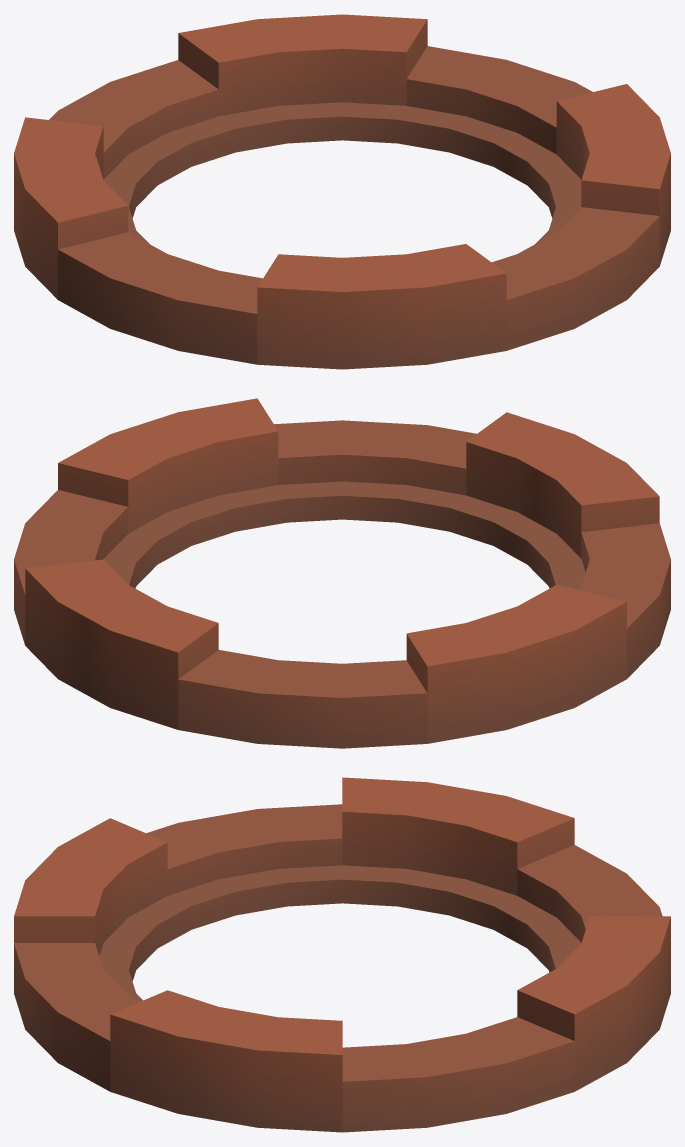
Rendered from tower-top.glb.
The picture shows the model from 3 angles, top to bottom: view 1: azimuth 30°, elevation 25°; view 2: azimuth 150°, elevation 25°; view 3: azimuth 270°, elevation 25°; orthographic projection.
Parts seen in each view (by area): view 1: tower-top; view 2: tower-top; view 3: tower-top.
Boxes of the visible parts, left/top/right/bottom form: tower-top: left=14, top=14, right=670, bottom=369; tower-top: left=14, top=398, right=670, bottom=748; tower-top: left=14, top=777, right=670, bottom=1132.
Size of the model in its own units: 3 by 0.39 by 3.
Materials: 1 (1 with a texture image).
